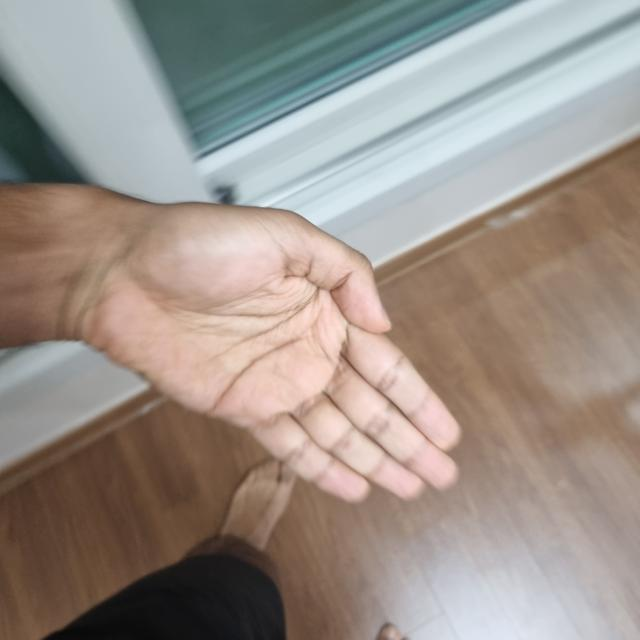Paper: (99, 201, 458, 497)
